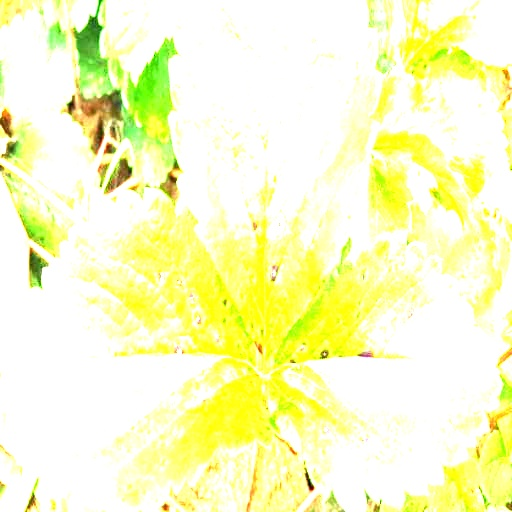Leaf Spot: (0, 187, 280, 511), (167, 0, 385, 377), (266, 230, 503, 511), (414, 204, 511, 364), (410, 45, 511, 186), (341, 146, 415, 261), (403, 0, 511, 70), (103, 0, 178, 89), (398, 467, 489, 511), (368, 0, 409, 77)
